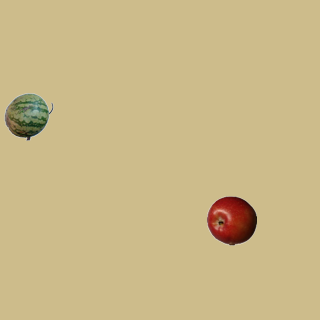Apple Braeburn: (206, 195, 256, 245)
Watermelon: (3, 91, 53, 141)
